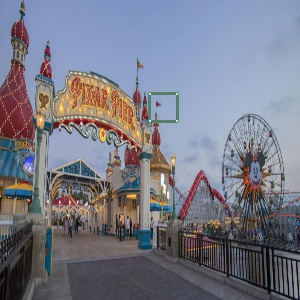square: (146, 91, 181, 125)
